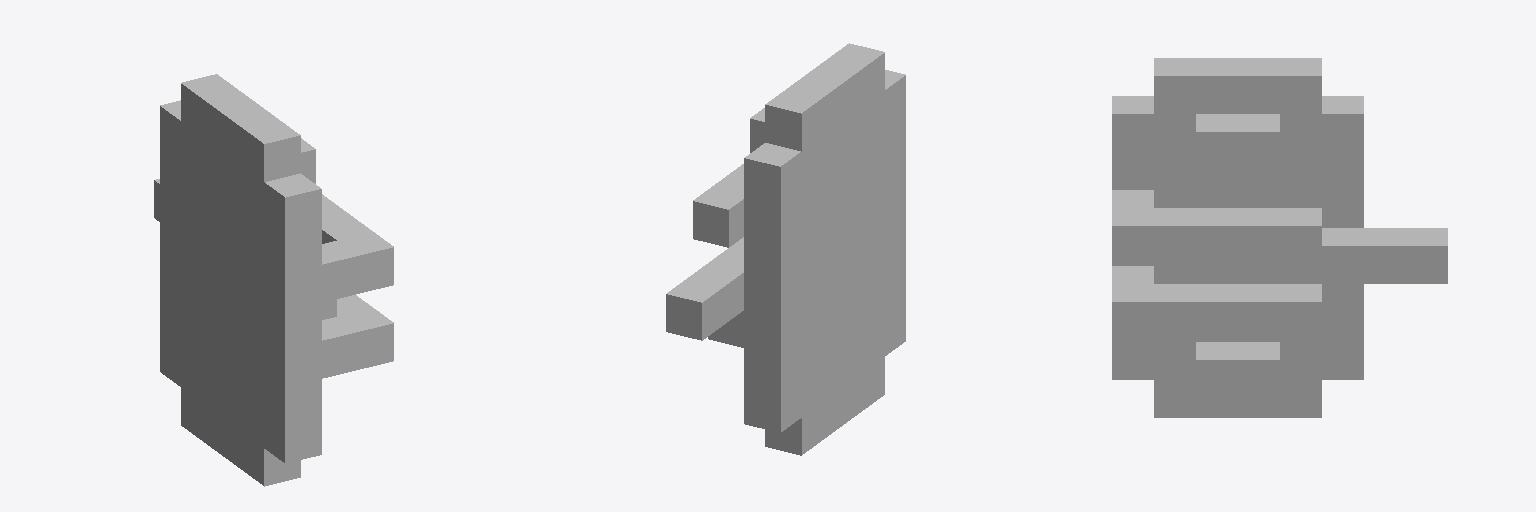
File: Architeture1-6.obj
3 renders of one model, left to right at view 1: azimuth 30°, elevation 25°; view 2: azimuth 150°, elevation 25°; view 3: azimuth 270°, elevation 25°, orthographic.
Visible parts, largest first — view 1: object 1; view 2: object 1; view 3: object 1.
Part boxes in pixels (bbox=[...]): object 1: bbox=[154, 74, 393, 486]; object 1: bbox=[666, 43, 905, 455]; object 1: bbox=[1112, 58, 1447, 417].
Bounding box in the file's own units: 0.3 × 0.9 × 0.8.